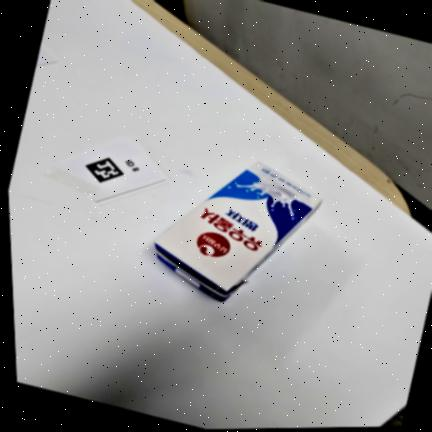milk_blue: (153, 161, 322, 302)
